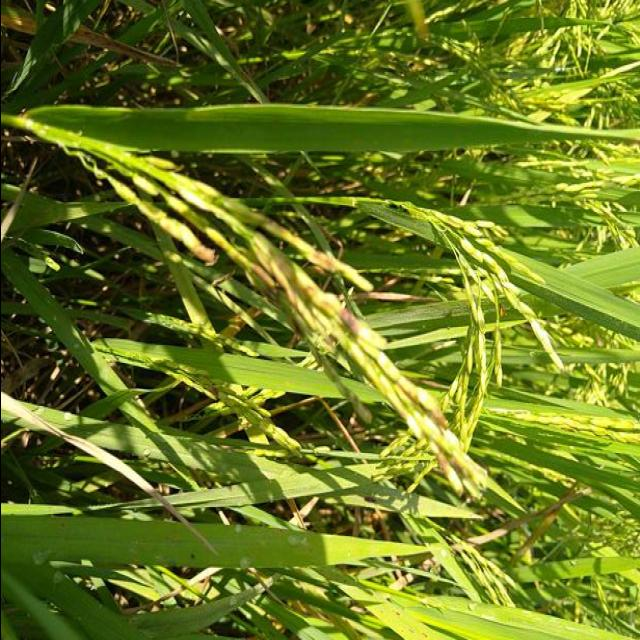Panicle Blight: (377, 378, 474, 482), (259, 223, 371, 288), (250, 242, 304, 310), (317, 305, 383, 349), (179, 235, 218, 266)
